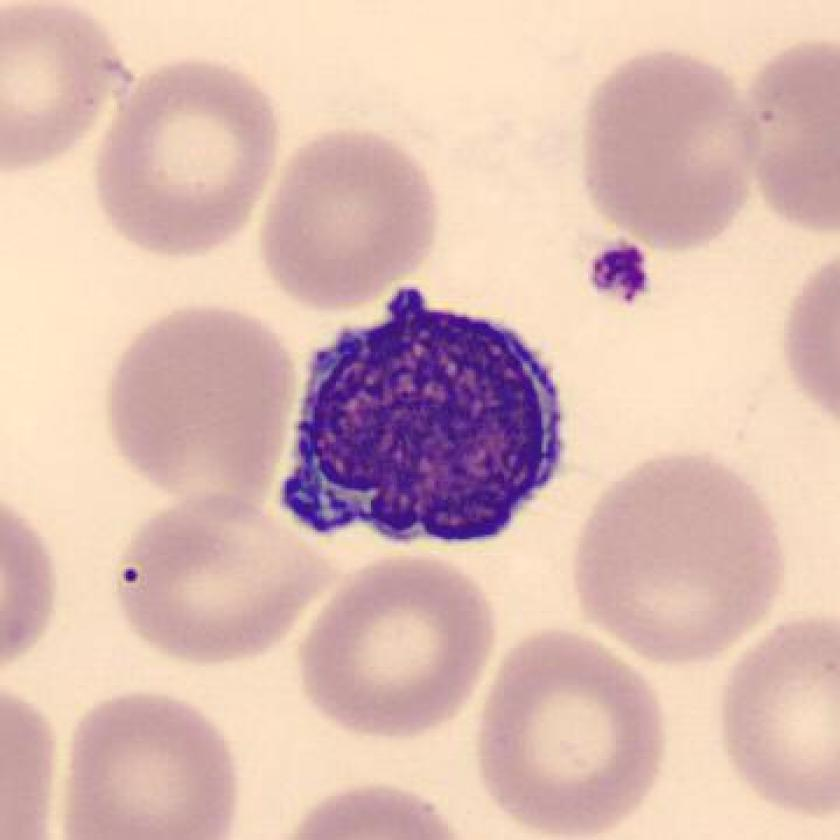lymphocyte: (251, 283, 589, 561)
